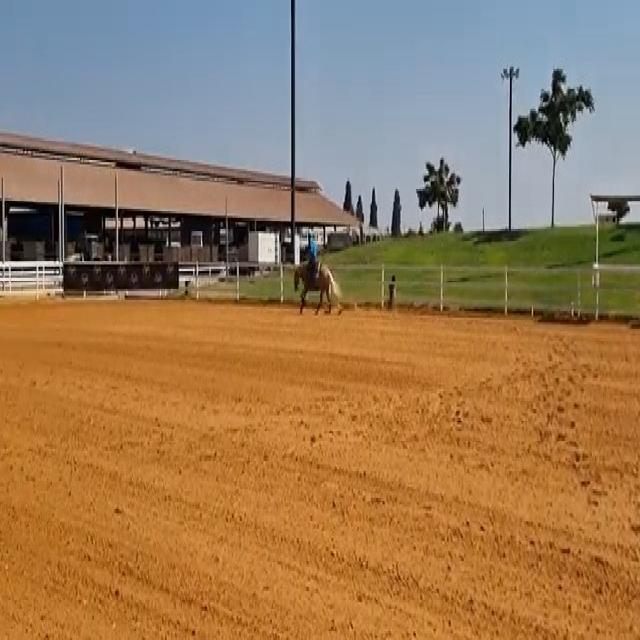horse: (291, 253, 342, 316)
